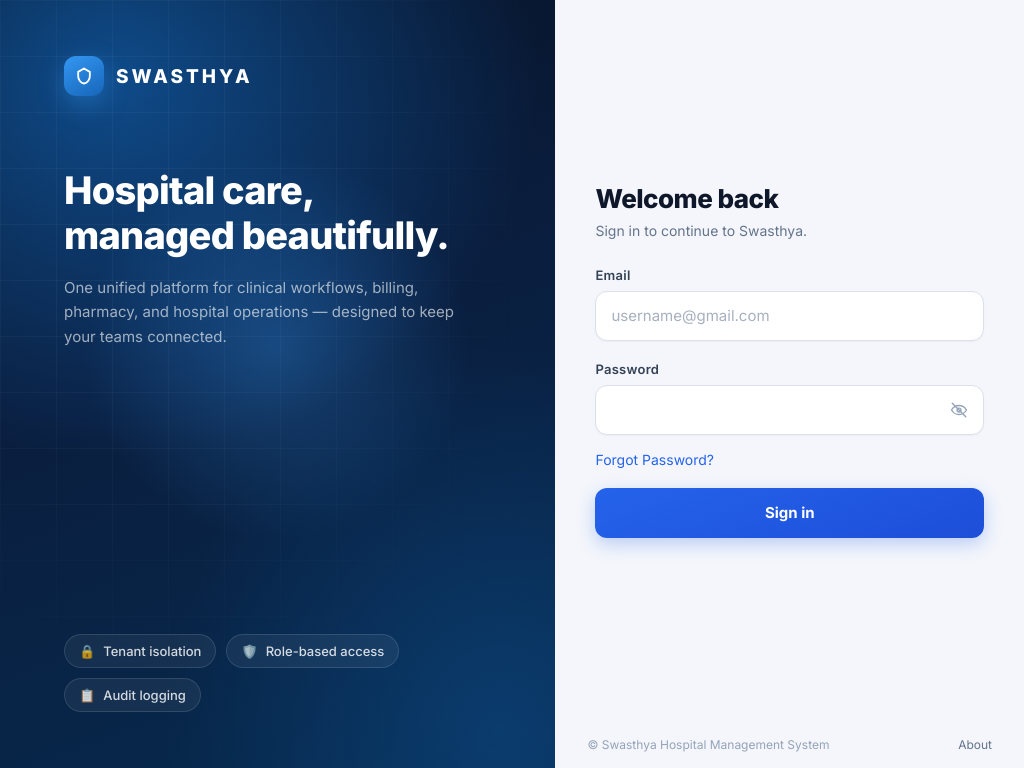
Test: LoginPage › shows invalid-email error after blur with bad email
Type "not-an-email" into the field labelled "Email".
click(790, 316); type("not-an-email")  # box [595,290,984,340]
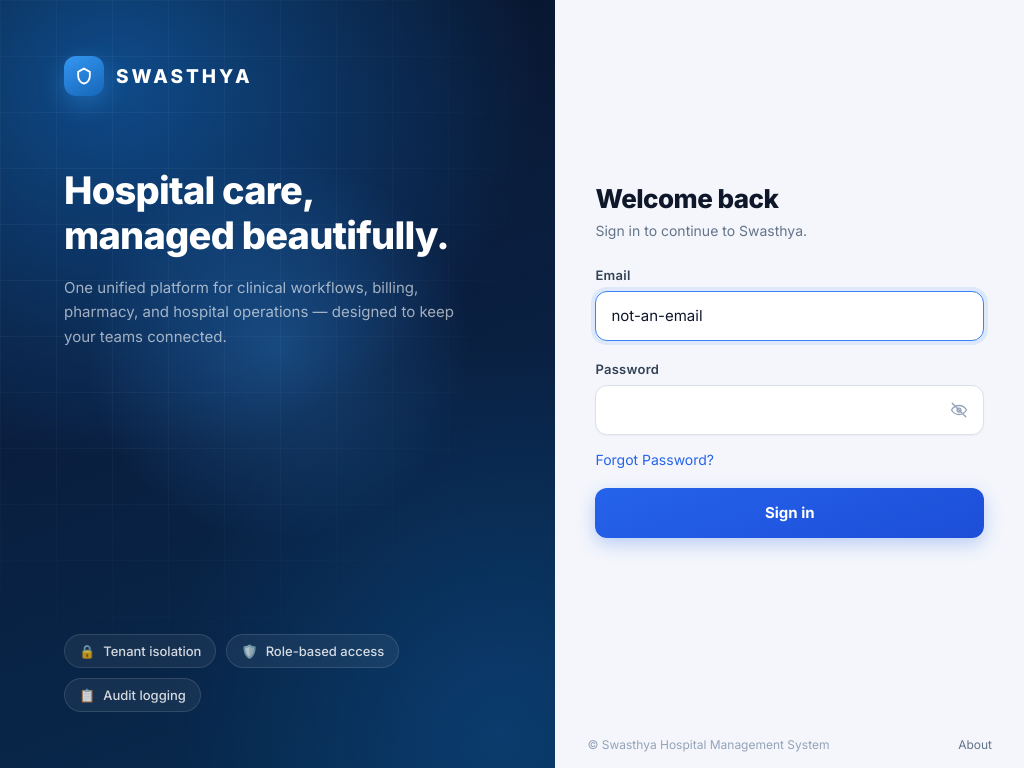
Press Tab
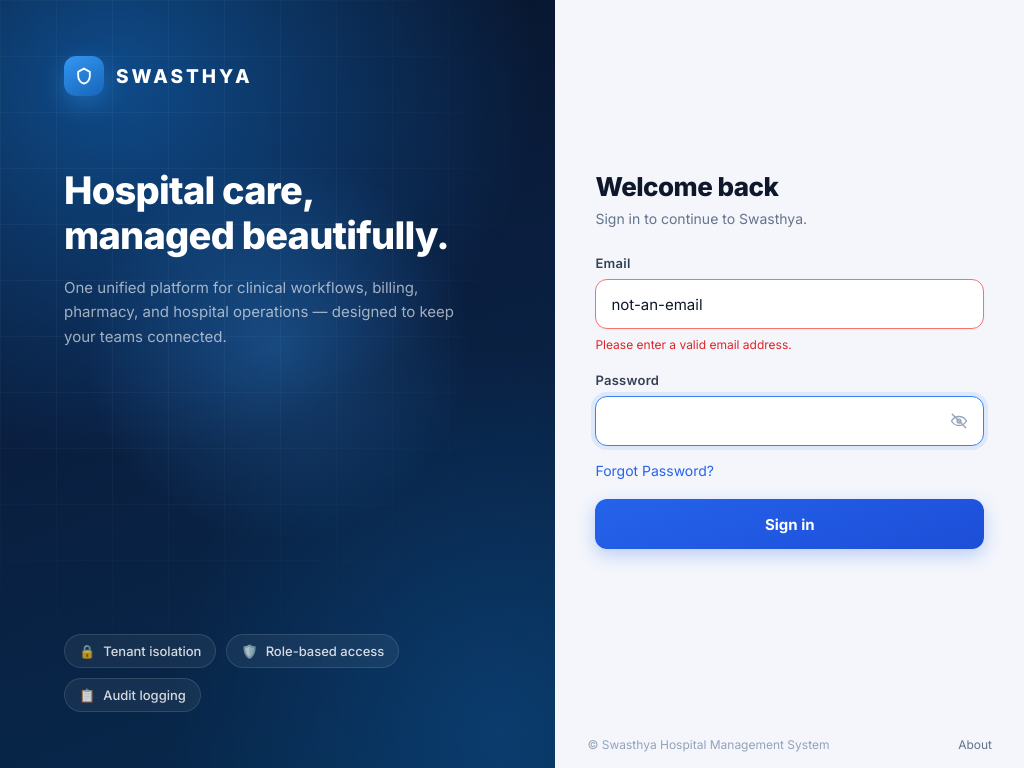
Result: the text "Please enter a valid email address." is shown at [595,337,792,352]
